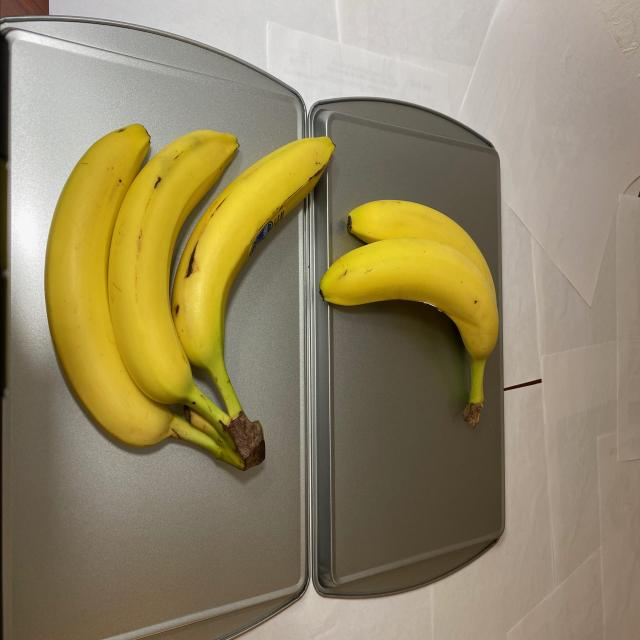banana: (37, 122, 337, 490), (318, 201, 499, 427)
